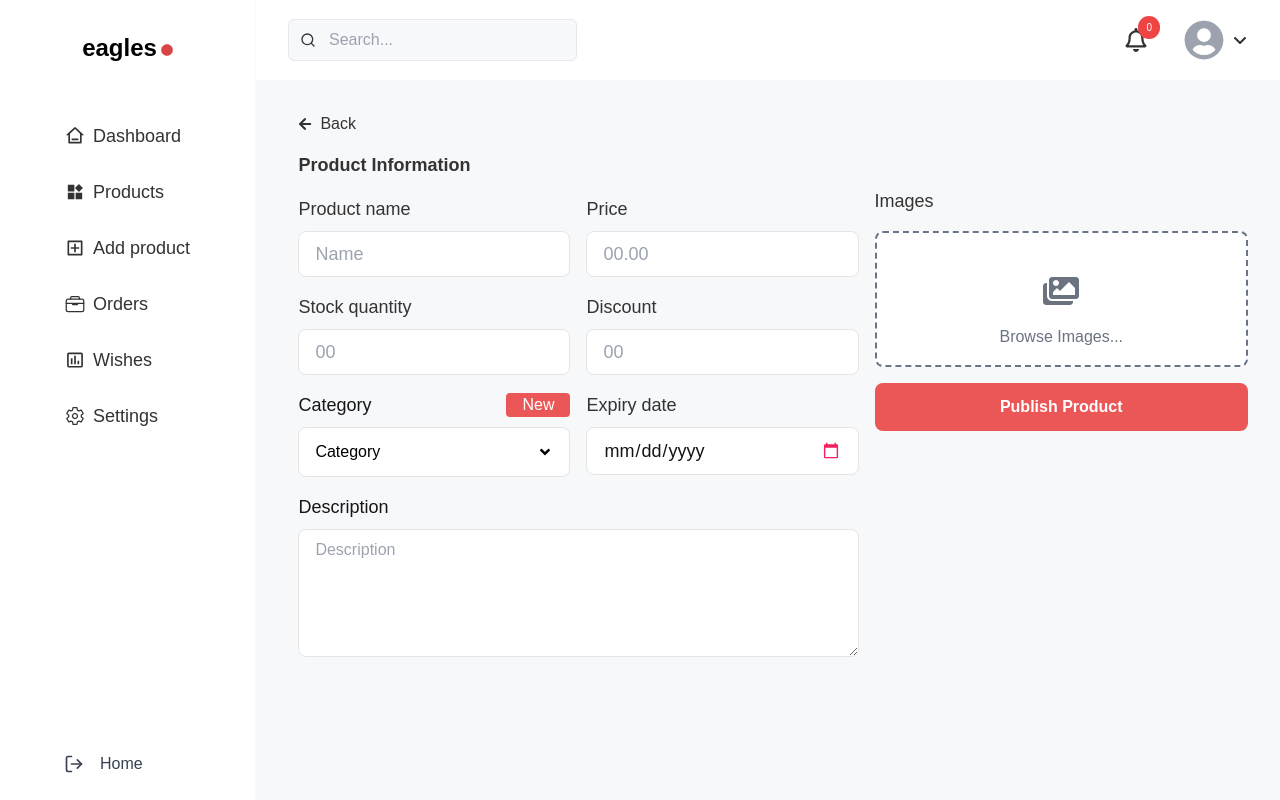
Scenario: test seller dashboard components › should handle category selection
Click the button "New" at (538, 405), box [506,393,570,417]
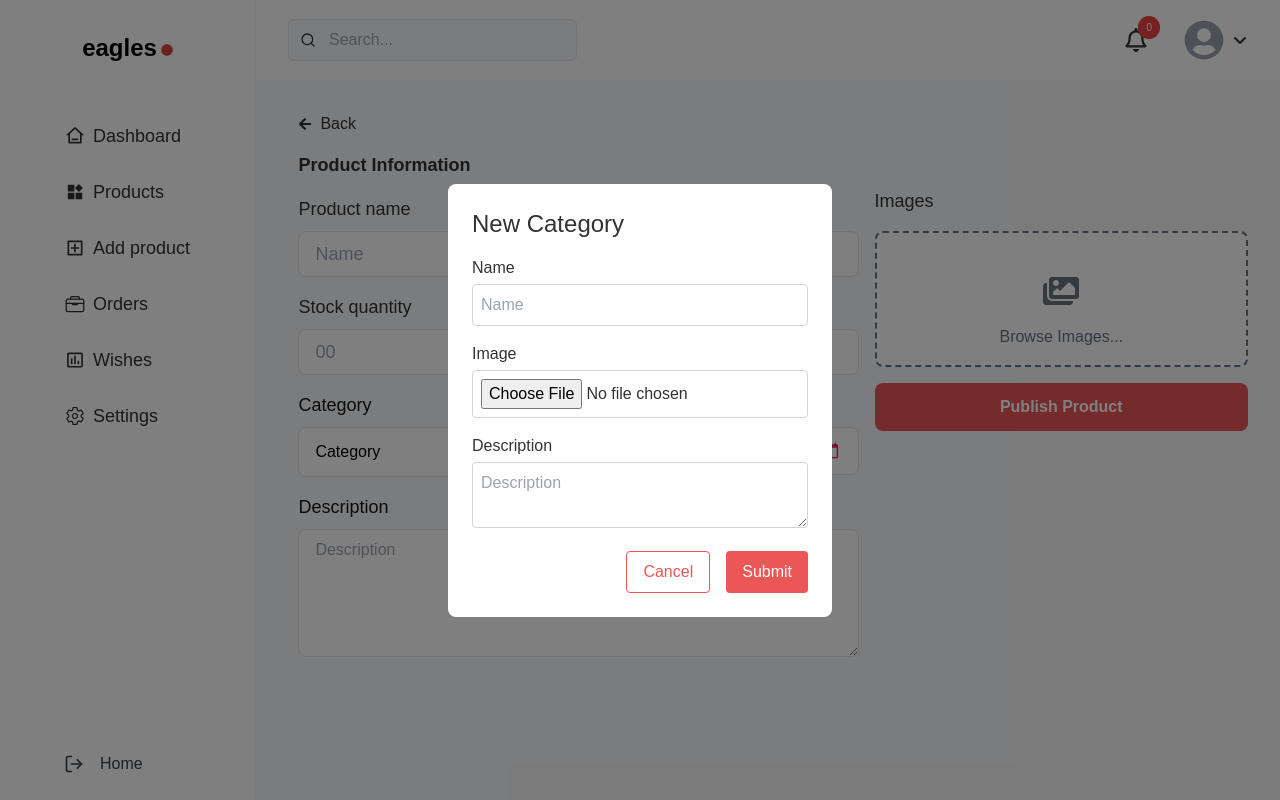
expect the heading "New Category" is shown: met, box [472,210,624,236]
